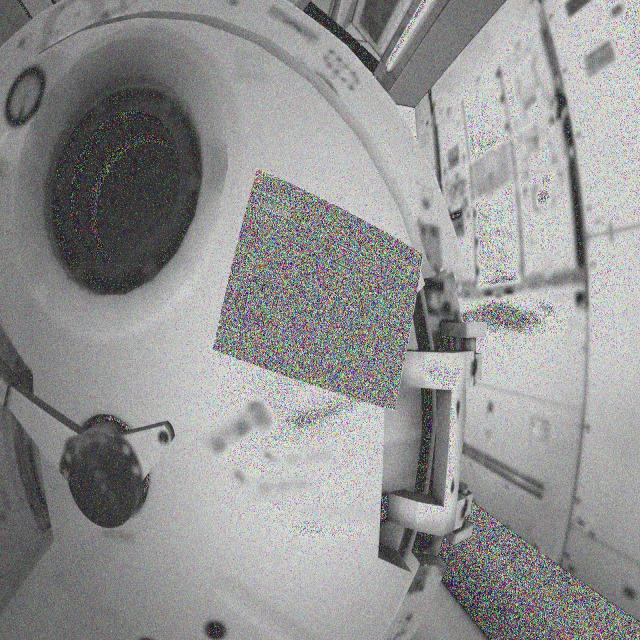letter: (330, 239, 362, 277)
